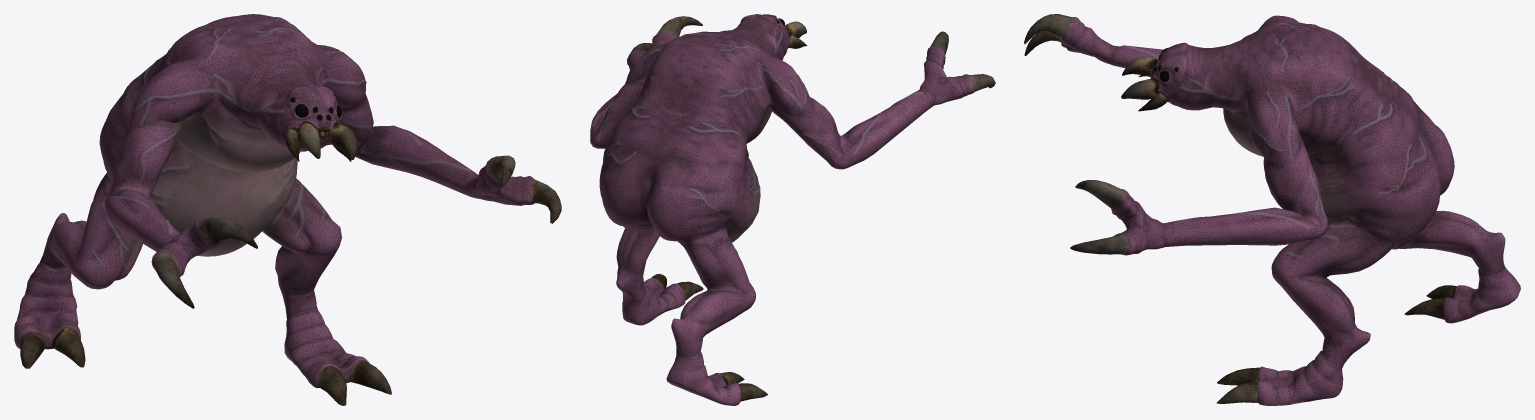
Rendered from MZ4250 - Ettercap.glb.
3 views of the same model, side by side, from view 1: azimuth 30°, elevation 25°; view 2: azimuth 150°, elevation 25°; view 3: azimuth 270°, elevation 25° (orthographic). The views are drawn at different scales.
Visible parts, largest first — view 1: Ettercap Updated for resin.001; view 2: Ettercap Updated for resin.001; view 3: Ettercap Updated for resin.001.
Part boxes in pixels (x1,y1,x2,y2): Ettercap Updated for resin.001: [14, 14, 561, 405]; Ettercap Updated for resin.001: [590, 14, 995, 405]; Ettercap Updated for resin.001: [1024, 14, 1520, 405].
Size of the model in its own units: 40.68 by 33.22 by 46.23.
Materials: 1 (1 with a texture image).
